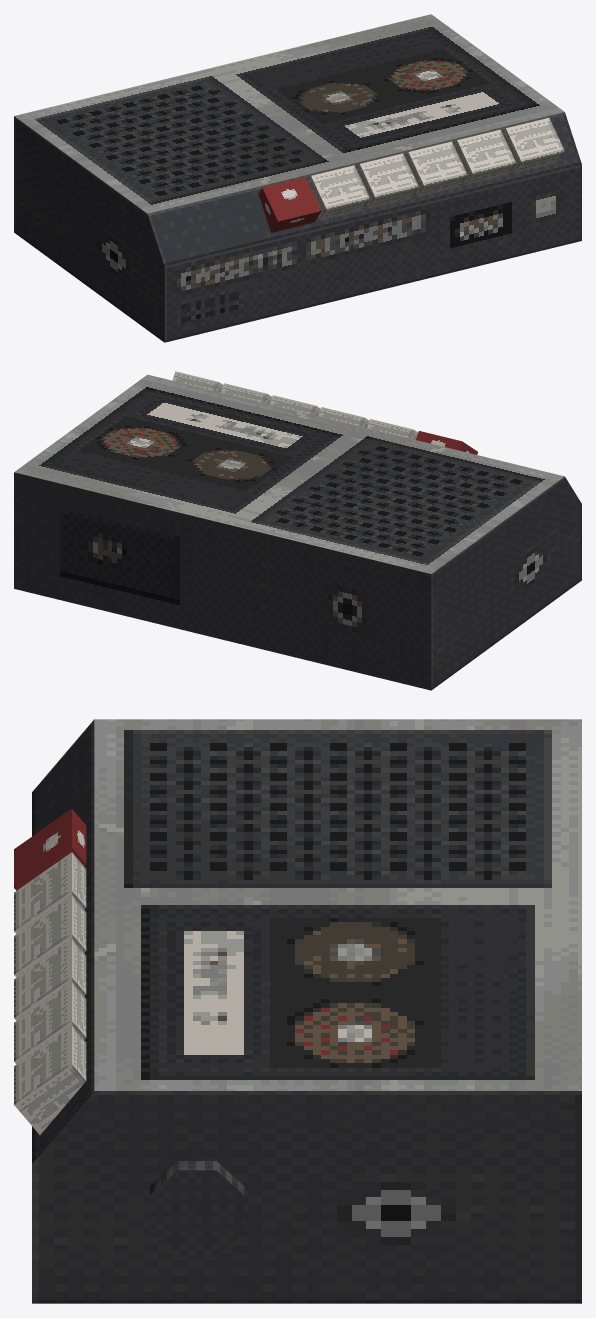
The model's file is cassette_player.glb.
The picture shows the model from 3 angles, top to bottom: view 1: azimuth 30°, elevation 25°; view 2: azimuth 150°, elevation 25°; view 3: azimuth 270°, elevation 25°; orthographic projection. The views are drawn at different scales.
Visible parts, largest first — view 1: cassette_player; view 2: cassette_player; view 3: cassette_player.
Boxes of the visible parts, <box> form: cassette_player: <box>14,14,581,342</box>; cassette_player: <box>14,371,581,690</box>; cassette_player: <box>14,719,581,1303</box>.
Bounding box in the file's own units: 0.246 × 0.0662 × 0.1549.
1 material, 1 textured.
